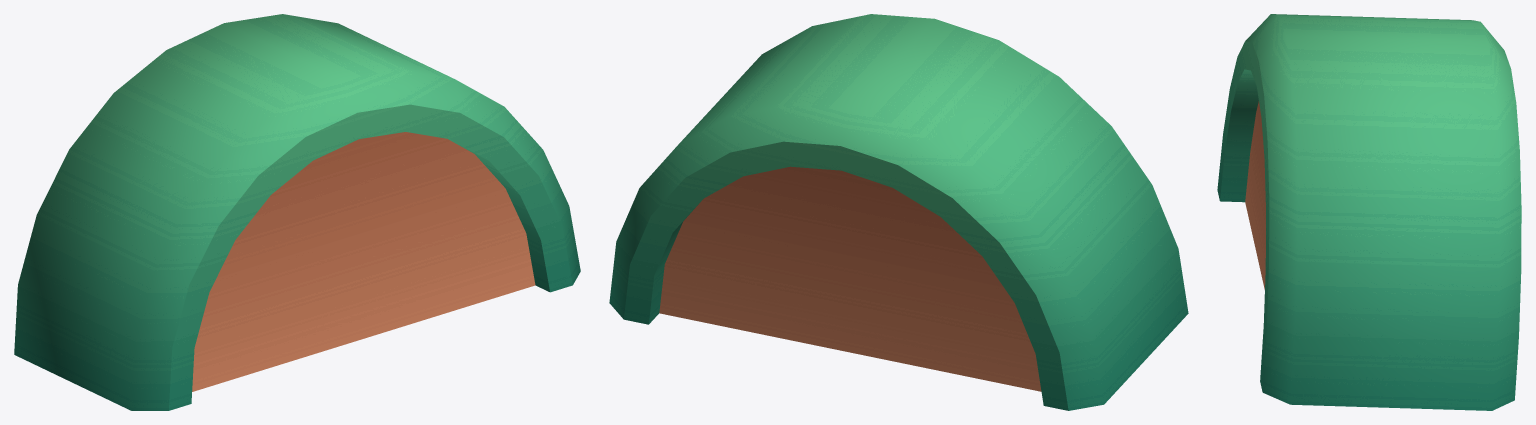
The model's file is block-grass-curve.001_lev2.glb.
The picture shows the model from 3 angles, left to right: view 1: azimuth 30°, elevation 25°; view 2: azimuth 150°, elevation 25°; view 3: azimuth 270°, elevation 25°; orthographic projection.
Visible parts, largest first — view 1: block-grass-curve.001_lev2; view 2: block-grass-curve.001_lev2; view 3: block-grass-curve.001_lev2.
Part boxes in pixels (box(x1,y1,x2,y2)): block-grass-curve.001_lev2: box(14, 14, 580, 410); block-grass-curve.001_lev2: box(609, 14, 1188, 410); block-grass-curve.001_lev2: box(1217, 14, 1521, 410).
Bounding box in the file's own units: 2.34 × 1.24 × 1.26.
Materials: 1 (1 with a texture image).
